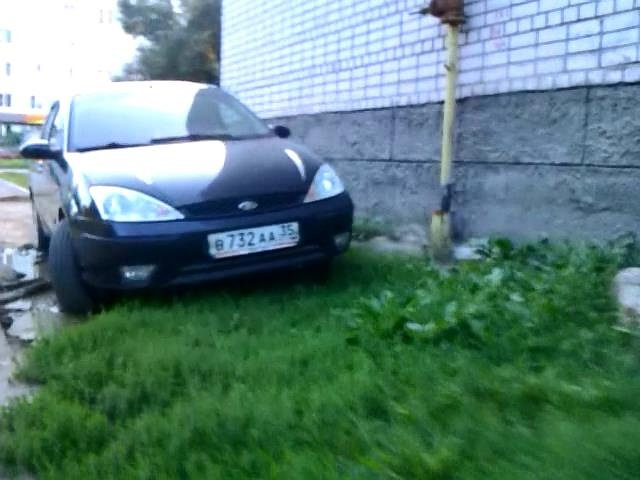car license plate: (201, 218, 303, 260)
